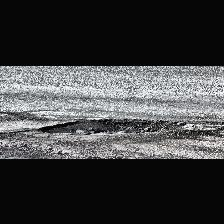pothole: (38, 115, 186, 135)
